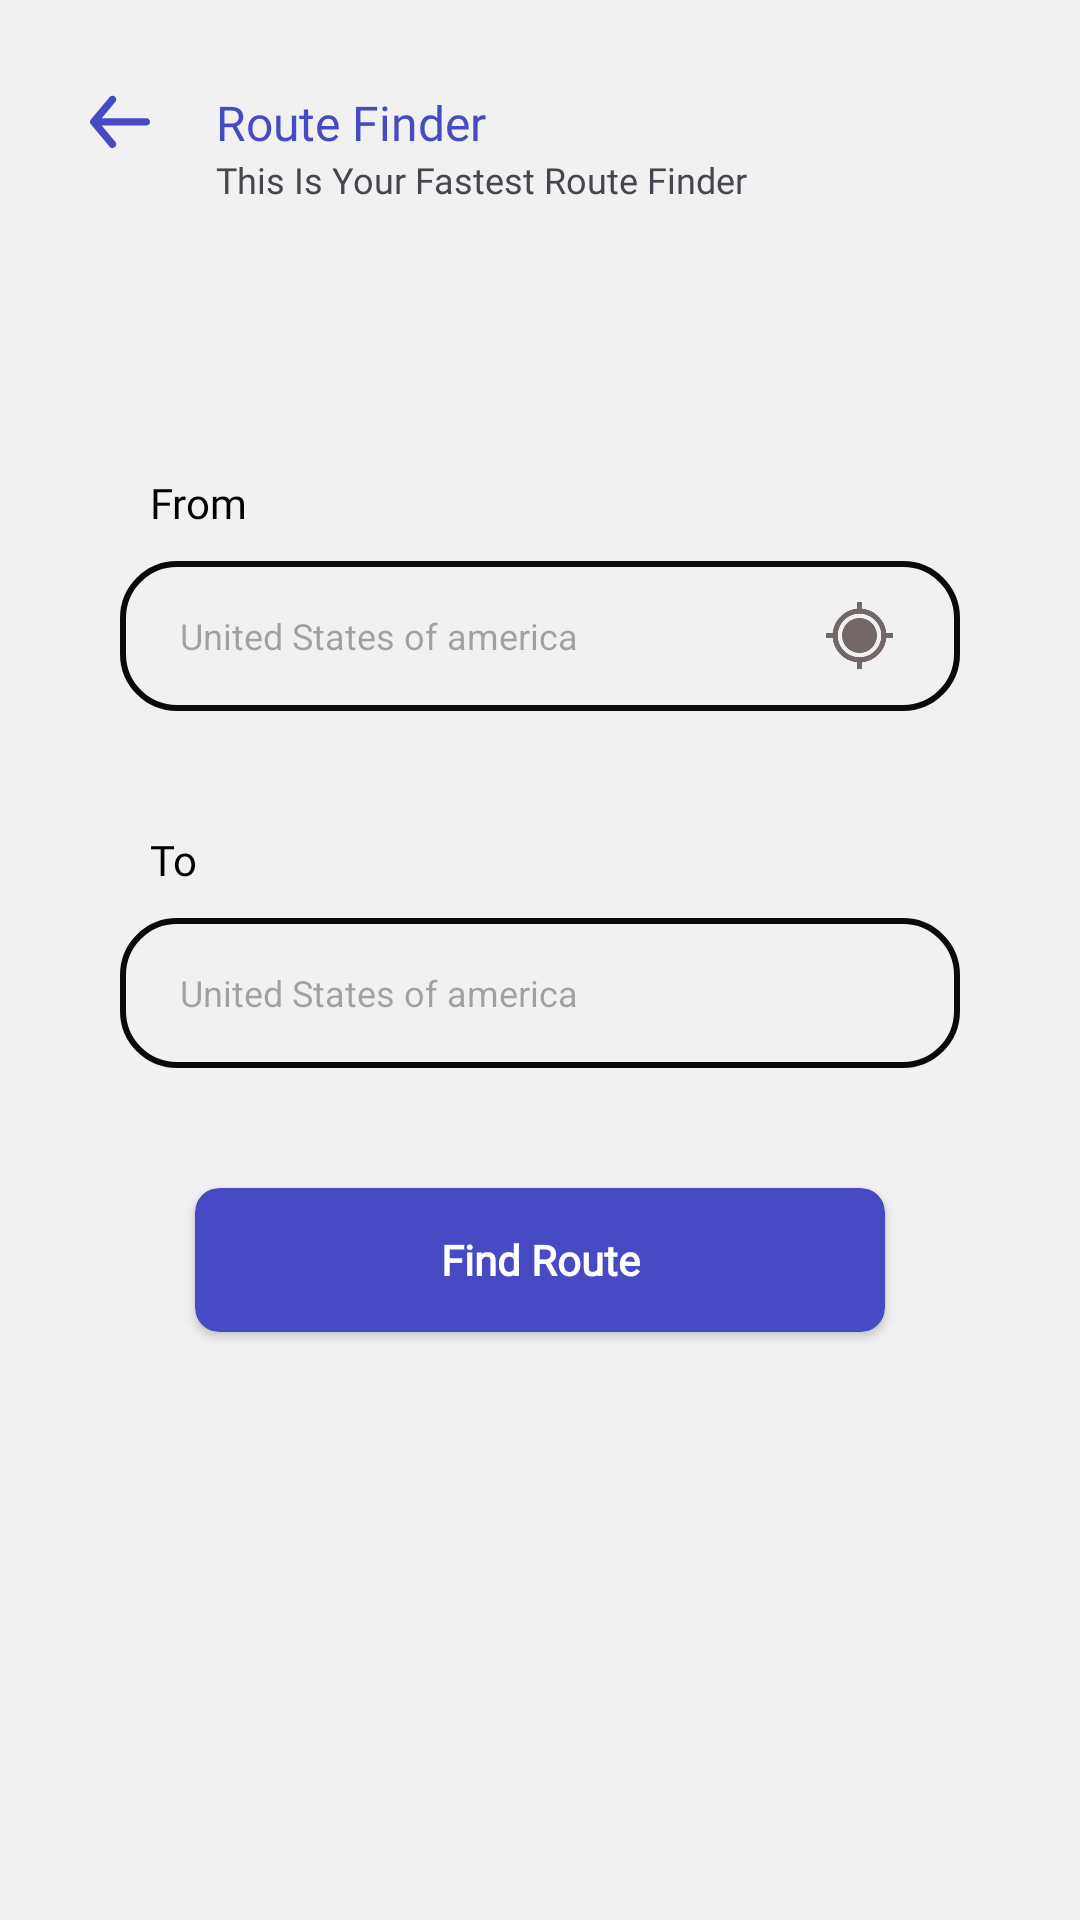

Screen size 1080*1920. Icon name, then its center in pixels as (x,y):
back arrow: (120,121)
